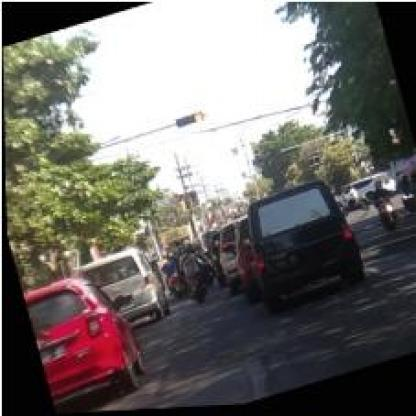red: (174, 113, 200, 129)
